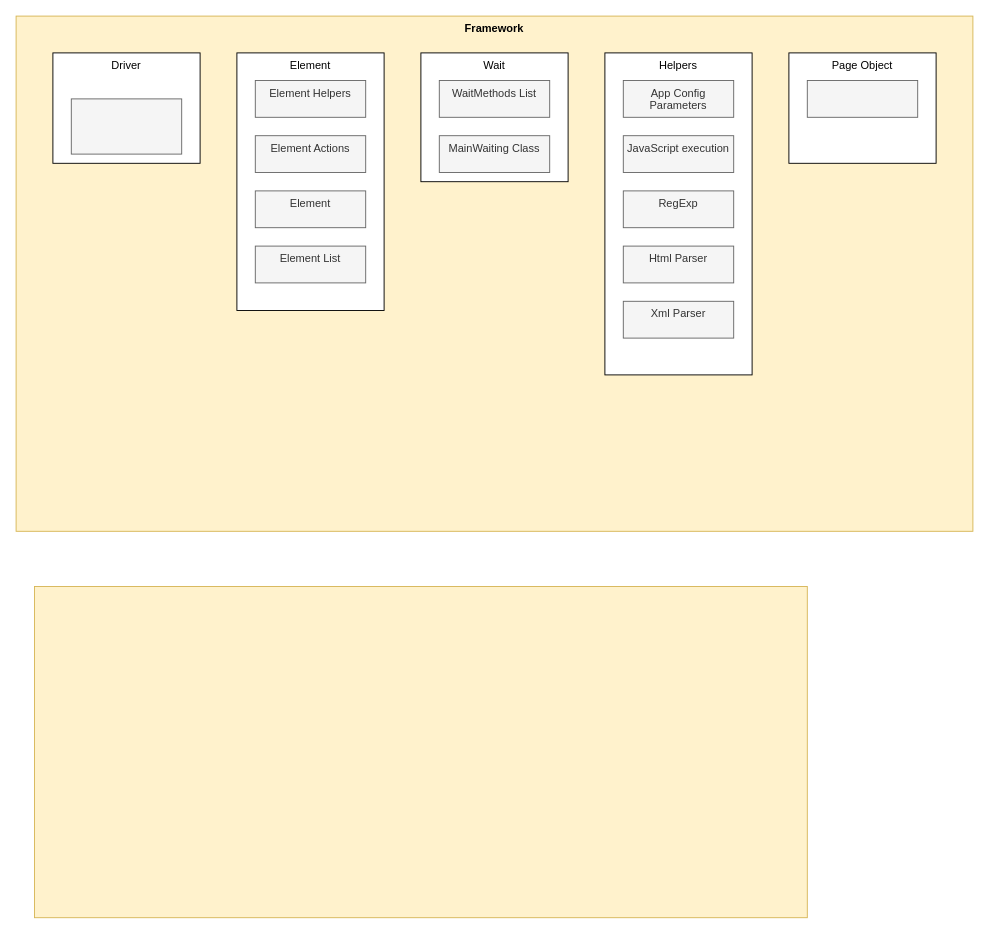
The diagram is 989 pixels wide and 934 high, and some of its shapes have lost their labels. Here are the shapes that lost their labels. From the top down, the centre of each, then its label:
the point at 862,98: Basic Page
the point at 126,126: Driver class
the point at 420,752: Project with tests
